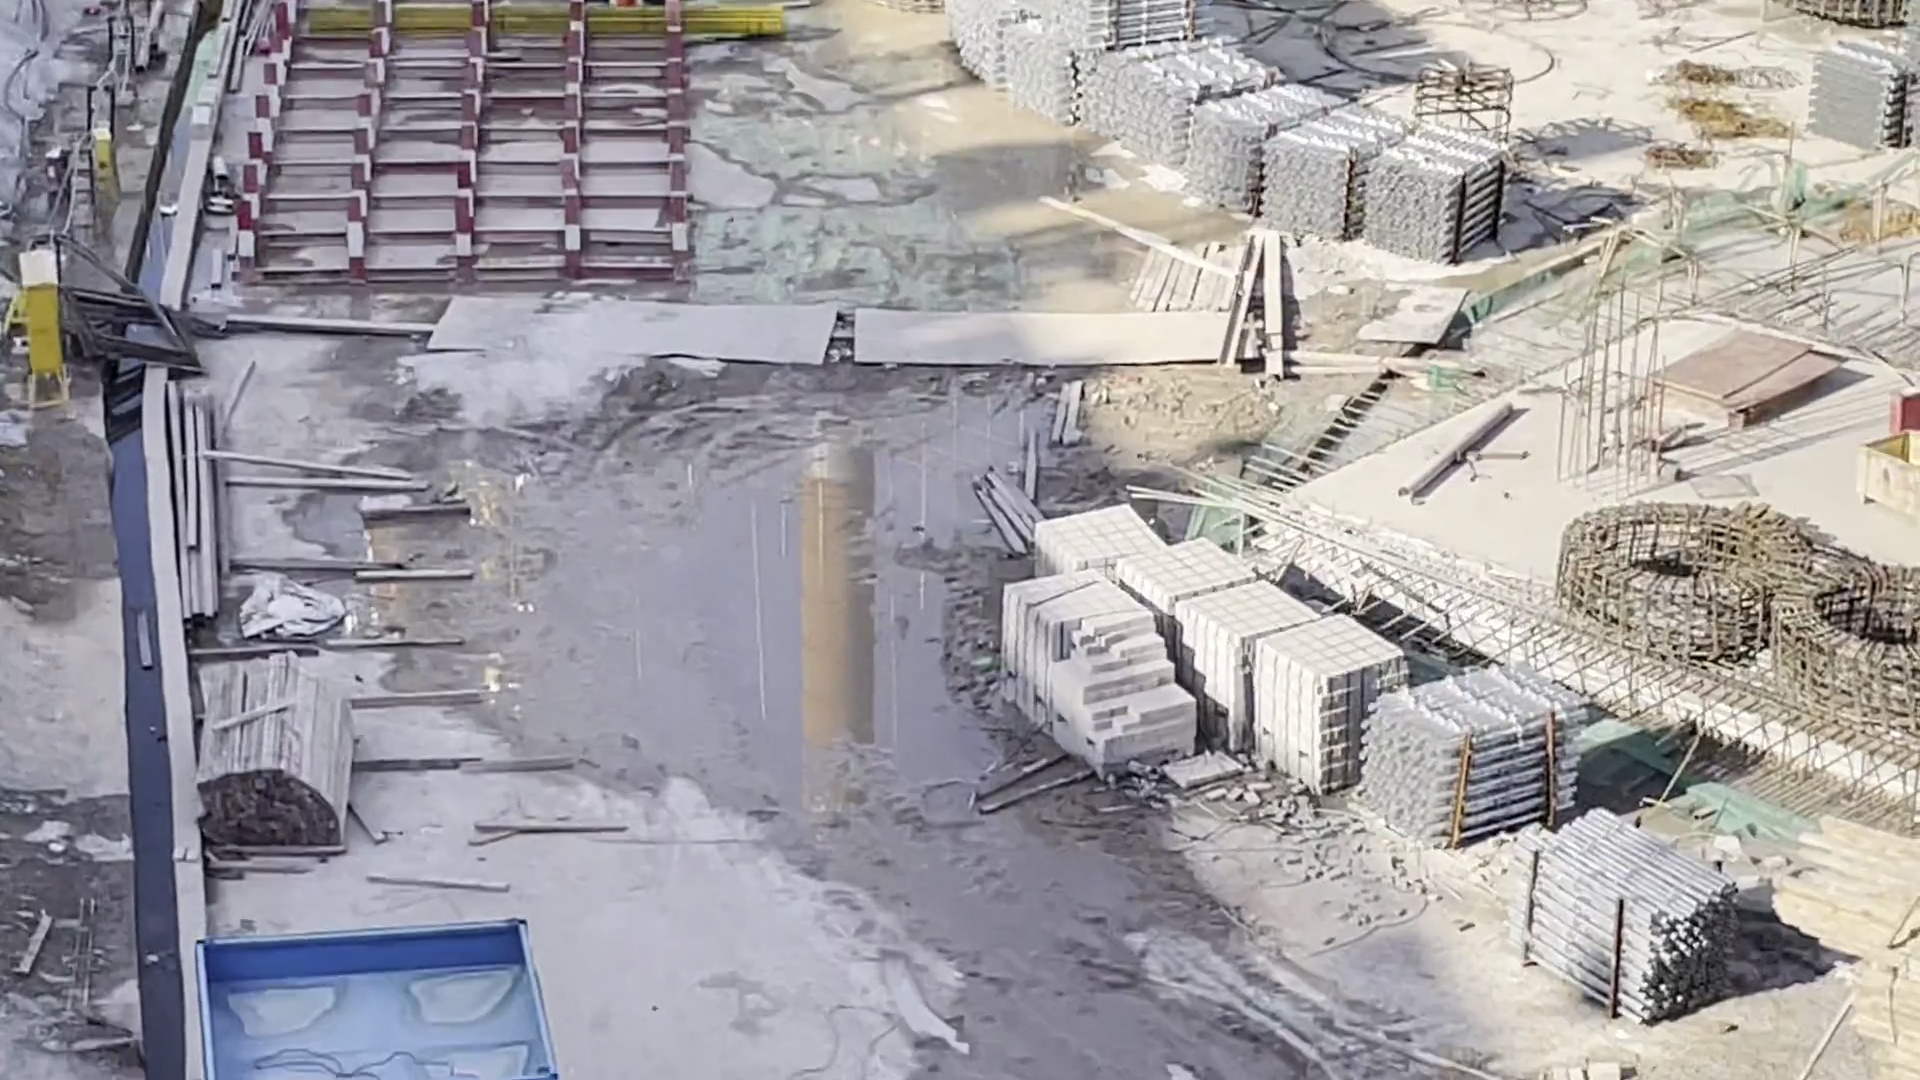board: (1662, 338, 1813, 429)
brick: (998, 539, 1371, 781)
ebox: (15, 253, 62, 400)
scaffold: (1502, 819, 1731, 1019), (1254, 108, 1515, 258), (1367, 666, 1581, 837), (1127, 49, 1340, 203), (944, 4, 1213, 115), (1815, 33, 1920, 146)
wood: (200, 665, 351, 860)
